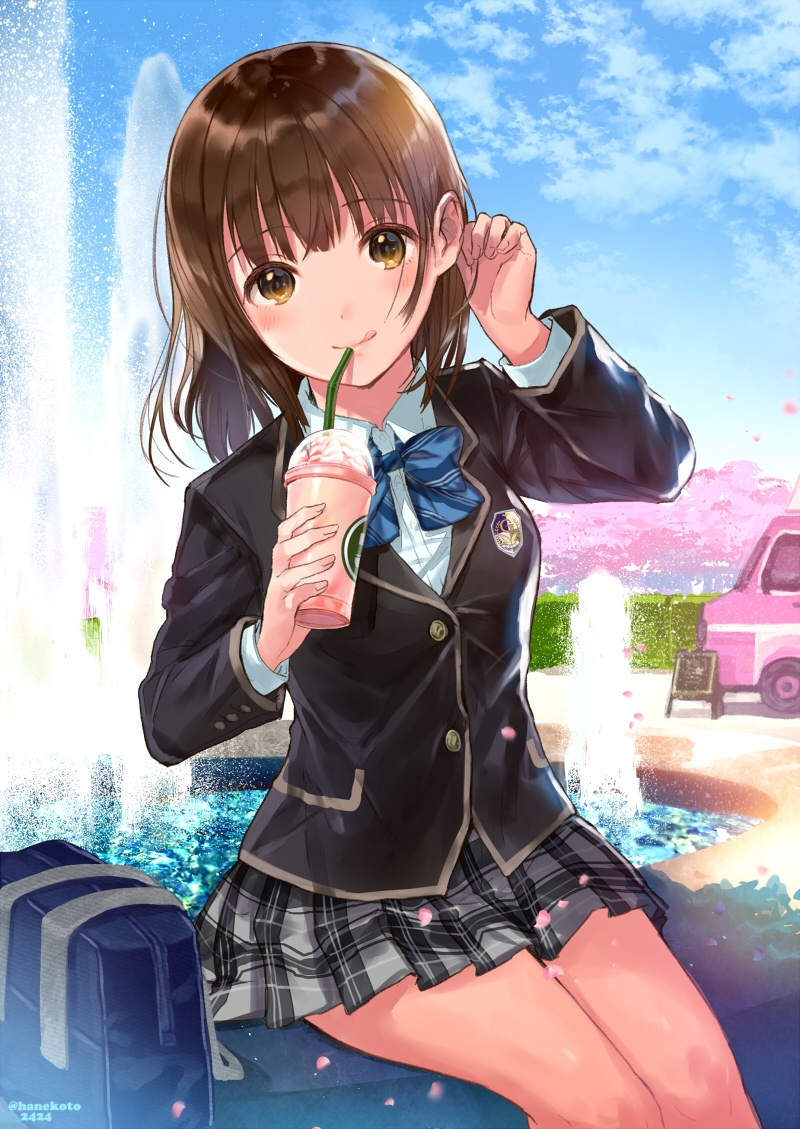纸片人正脸: (156, 36, 474, 402)
